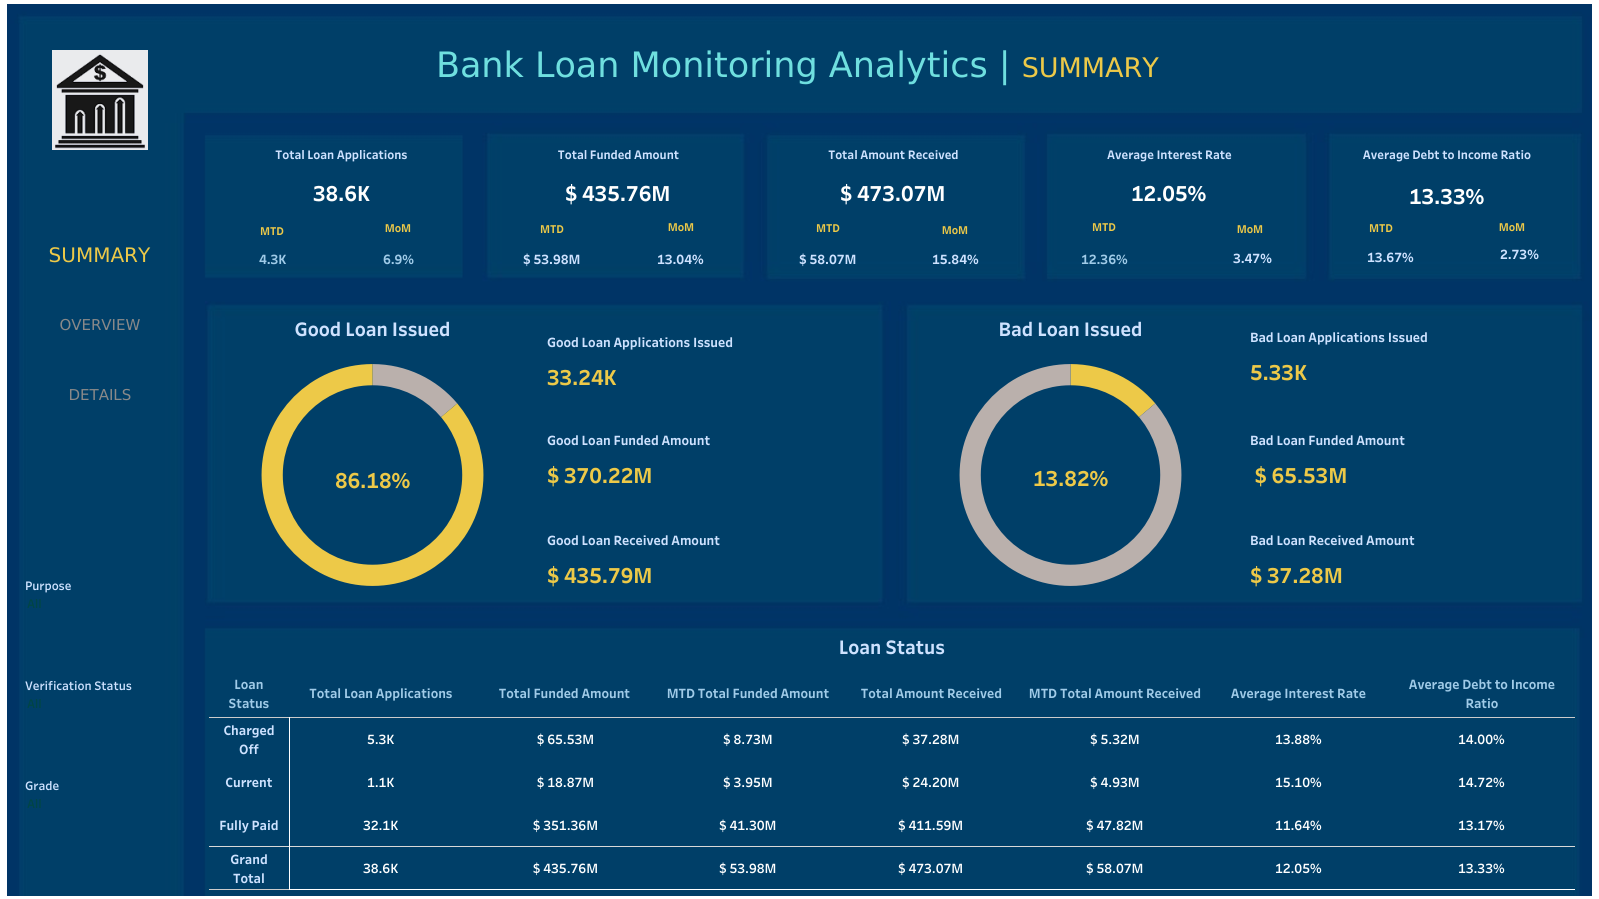

This screenshot's page, from the dashboard's own definition file:
{"tool":"tableau","page":{"name":"SUMMARY","canvas":[1600,900],"ordinal":2},"visuals":[{"type":"image","param":"Image/teal bg summary.jpg","box":[0,0,1600,900]},{"type":"text","box":[19,15,1557,100]},{"type":"image","param":"Image/images 1.png","box":[40,50,120,100]},{"type":"worksheet","title":"Total Loan Applications","mark":"Automatic","box":[216,139,251,74]},{"type":"worksheet","title":"Total Funded Amount","mark":"Automatic","box":[493,139,251,74]},{"type":"worksheet","title":"Total Amount Received ","mark":"Automatic","box":[768,139,251,74]},{"type":"worksheet","title":"Average Interest Rate","mark":"Automatic","box":[1044,139,251,74]},{"type":"worksheet","title":"Average Debt to Income Ratio","mark":"Automatic","box":[1321,139,252,81]},{"type":"text","box":[636,214,90,25]},{"type":"text","box":[1059,214,90,25]},{"type":"text","box":[1467,214,90,25]},{"type":"text","box":[353,215,90,25]},{"type":"text","box":[783,215,90,25]},{"type":"text","box":[1336,215,90,25]},{"type":"text","box":[507,216,90,25]},{"type":"text","box":[1205,216,90,25]},{"type":"text","box":[910,217,90,25]},{"type":"text","box":[227,218,90,25]},{"type":"dashboard-object","box":[20,230,160,50]},{"type":"worksheet","title":"MoM Average Debt to Income Ratio","mark":"Automatic","box":[1460,231,119,46]},{"type":"worksheet","title":"MTD Average Debt to Income Ratio","mark":"Automatic","box":[1331,234,119,46]},{"type":"worksheet","title":"MoM Average Interest Rate","mark":"Automatic","box":[1193,235,119,46]},{"type":"worksheet","title":" MTD Total Loan Applications ","mark":"Automatic","box":[214,236,119,46]},{"type":"worksheet","title":"MoM Total Loan Applications","mark":"Automatic","box":[340,236,119,46]},{"type":"worksheet","title":"MTD Total Funded Amount","mark":"Automatic","box":[493,236,119,46]},{"type":"worksheet","title":"MoM Total Funded Amount","mark":"Automatic","box":[621,236,119,46]},{"type":"worksheet","title":"MTD Total Amount Received","mark":"Automatic","box":[769,236,119,46]},{"type":"worksheet","title":"MoM Total Amount Received","mark":"Automatic","box":[896,236,119,46]},{"type":"worksheet","title":"MTD Average Interest Rate","mark":"Automatic","box":[1045,236,119,46]},{"type":"dashboard-object","box":[20,300,160,50]},{"type":"worksheet","title":"Good Loan Issued","mark":"Pie","rows":["Calculation_938437588361576454","Calculation_938437588361596936"],"box":[209,309,327,291]},{"type":"worksheet","title":"Bad Loan Issued","mark":"Pie","rows":["Calculation_938437588361576454","Calculation_938437588361596936"],"box":[907,309,327,291]},{"type":"worksheet","title":"Bad Loan Applications Issued","mark":"Automatic","box":[1242,317,332,75]},{"type":"worksheet","title":"Good Loan Applications Issued ","mark":"Automatic","box":[539,322,332,75]},{"type":"dashboard-object","box":[20,370,160,50]},{"type":"worksheet","title":"Good Loan Funded Amount","mark":"Automatic","box":[539,420,332,75]},{"type":"worksheet","title":"Bad Loan Funded Amount","mark":"Automatic","box":[1242,420,332,75]},{"type":"worksheet","title":"Bad Loan Issued Percentage","mark":"Automatic","box":[996,443,150,70]},{"type":"worksheet","title":"Good Loan Issued Percentage","mark":"Automatic","box":[298,445,150,70]},{"type":"worksheet","title":"Good Loan Received Amount","mark":"Automatic","box":[539,520,332,75]},{"type":"worksheet","title":"Bad Loan Received Amount","mark":"Automatic","box":[1242,520,332,75]},{"type":"filter","title":"Good Loan Issued","param":"[federated.1uwvali1n985jl11m84su1rpirvq].[none:purpose:nk]","box":[25,575,150,70]},{"type":"worksheet","title":"Loan Status","mark":"Automatic","rows":["loan_status"],"box":[209,627,1366,263]},{"type":"filter","title":"Good Loan Issued","param":"[federated.1uwvali1n985jl11m84su1rpirvq].[none:verification_status:nk]","box":[25,675,150,70]},{"type":"filter","title":"Good Loan Issued","param":"[federated.1uwvali1n985jl11m84su1rpirvq].[none:grade:nk]","box":[25,775,150,70]}]}

Visuals, with their boxes in screenshot pixels (x1, y1, x2, y2), scaled from the page's 1600x900 canvas onto the 1599x899 screenshot:
image: l=0, t=0, r=1598, b=898
text: l=19, t=15, r=1575, b=115
image: l=40, t=50, r=160, b=150
"Total Loan Applications" worksheet: l=216, t=139, r=467, b=213
"Total Funded Amount" worksheet: l=493, t=139, r=744, b=213
"Total Amount Received " worksheet: l=768, t=139, r=1018, b=213
"Average Interest Rate" worksheet: l=1043, t=139, r=1294, b=213
"Average Debt to Income Ratio" worksheet: l=1320, t=139, r=1572, b=220
text: l=636, t=214, r=726, b=239
text: l=1058, t=214, r=1148, b=239
text: l=1466, t=214, r=1556, b=239
text: l=353, t=215, r=443, b=240
text: l=783, t=215, r=872, b=240
text: l=1335, t=215, r=1425, b=240
text: l=507, t=216, r=597, b=241
text: l=1204, t=216, r=1294, b=241
text: l=909, t=217, r=999, b=242
text: l=227, t=218, r=317, b=243
dashboard-object: l=20, t=230, r=180, b=280
"MoM Average Debt to Income Ratio" worksheet: l=1459, t=231, r=1578, b=277
"MTD Average Debt to Income Ratio" worksheet: l=1330, t=234, r=1449, b=280
"MoM Average Interest Rate" worksheet: l=1192, t=235, r=1311, b=281
" MTD Total Loan Applications " worksheet: l=214, t=236, r=333, b=282
"MoM Total Loan Applications" worksheet: l=340, t=236, r=459, b=282
"MTD Total Funded Amount" worksheet: l=493, t=236, r=612, b=282
"MoM Total Funded Amount" worksheet: l=621, t=236, r=740, b=282
"MTD Total Amount Received" worksheet: l=769, t=236, r=887, b=282
"MoM Total Amount Received" worksheet: l=895, t=236, r=1014, b=282
"MTD Average Interest Rate" worksheet: l=1044, t=236, r=1163, b=282
dashboard-object: l=20, t=300, r=180, b=350
"Good Loan Issued" worksheet (Pie marks): l=209, t=309, r=536, b=599
"Bad Loan Issued" worksheet (Pie marks): l=906, t=309, r=1233, b=599
"Bad Loan Applications Issued" worksheet: l=1241, t=317, r=1573, b=392
"Good Loan Applications Issued " worksheet: l=539, t=322, r=870, b=397
dashboard-object: l=20, t=370, r=180, b=420
"Good Loan Funded Amount" worksheet: l=539, t=420, r=870, b=494
"Bad Loan Funded Amount" worksheet: l=1241, t=420, r=1573, b=494
"Bad Loan Issued Percentage" worksheet: l=995, t=443, r=1145, b=512
"Good Loan Issued Percentage" worksheet: l=298, t=445, r=448, b=514
"Good Loan Received Amount" worksheet: l=539, t=519, r=870, b=594
"Bad Loan Received Amount" worksheet: l=1241, t=519, r=1573, b=594
"Good Loan Issued" filter: l=25, t=574, r=175, b=644
"Loan Status" worksheet: l=209, t=626, r=1574, b=889
"Good Loan Issued" filter: l=25, t=674, r=175, b=744
"Good Loan Issued" filter: l=25, t=774, r=175, b=844
